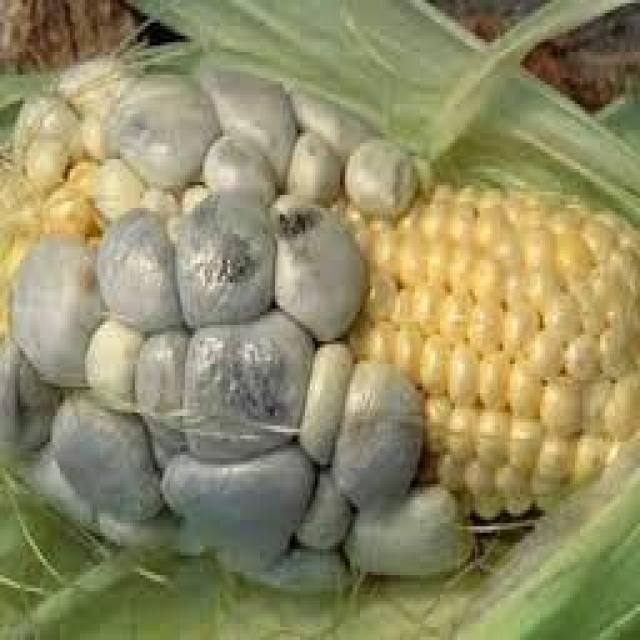Leaf_Scald: (3, 29, 640, 579)
